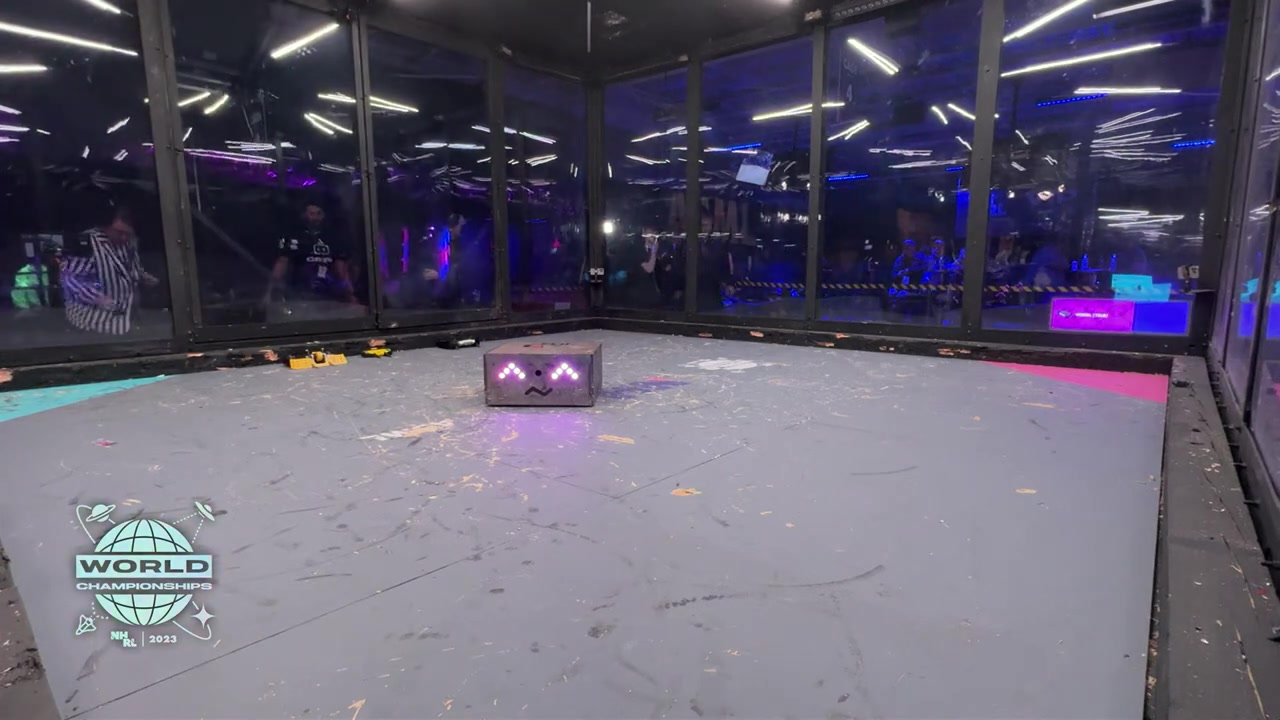combatbot: (289, 350, 349, 368), (443, 337, 479, 350)
housebot: (484, 343, 603, 409)
minibot: (365, 348, 391, 358)
